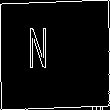N_S: (45, 29, 65, 81)
